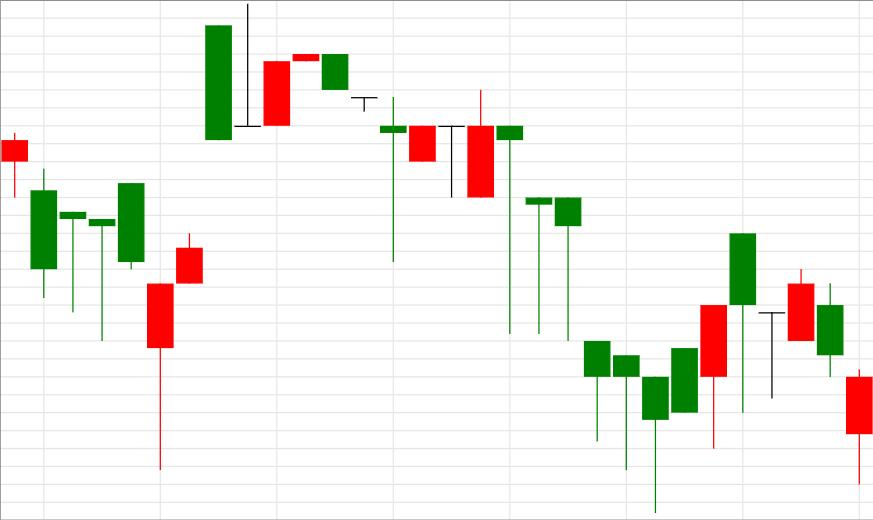hammer_rise: (497, 125, 668, 512)
